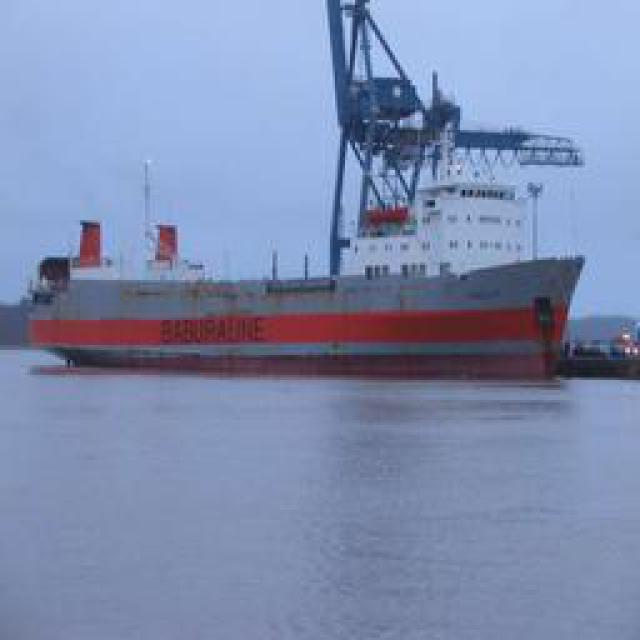Ship: (39, 1, 589, 379)
